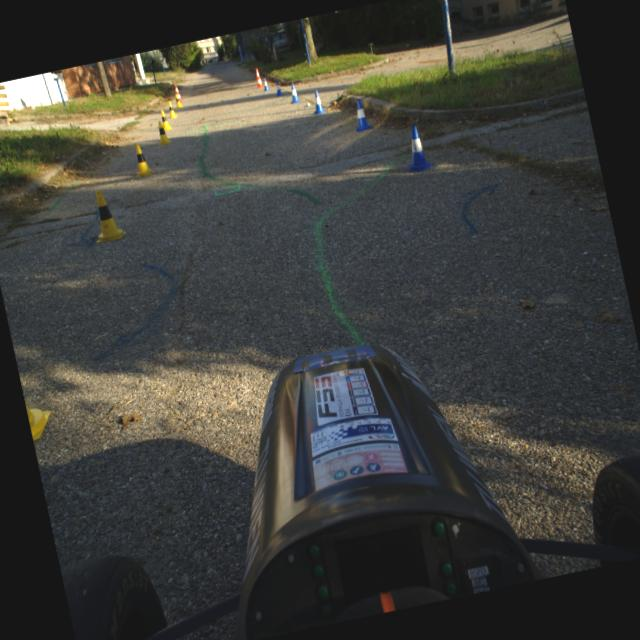blue_cone: (398, 122, 434, 174), (349, 98, 372, 132), (310, 88, 326, 115), (287, 82, 300, 104), (272, 80, 284, 96), (261, 76, 270, 92)
large_orange_cone: (252, 66, 264, 88), (172, 82, 182, 103)
yellow_cone: (86, 186, 128, 244), (24, 396, 56, 441), (129, 140, 154, 178), (153, 118, 172, 146), (160, 108, 172, 130), (166, 100, 177, 119), (173, 92, 182, 109)
